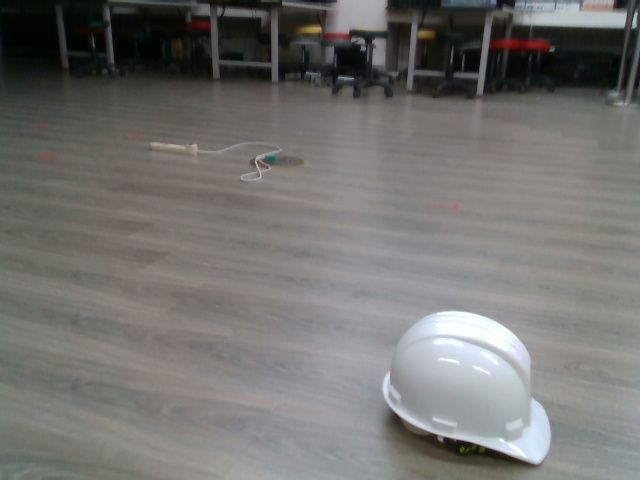helmet: (380, 307, 560, 471)
